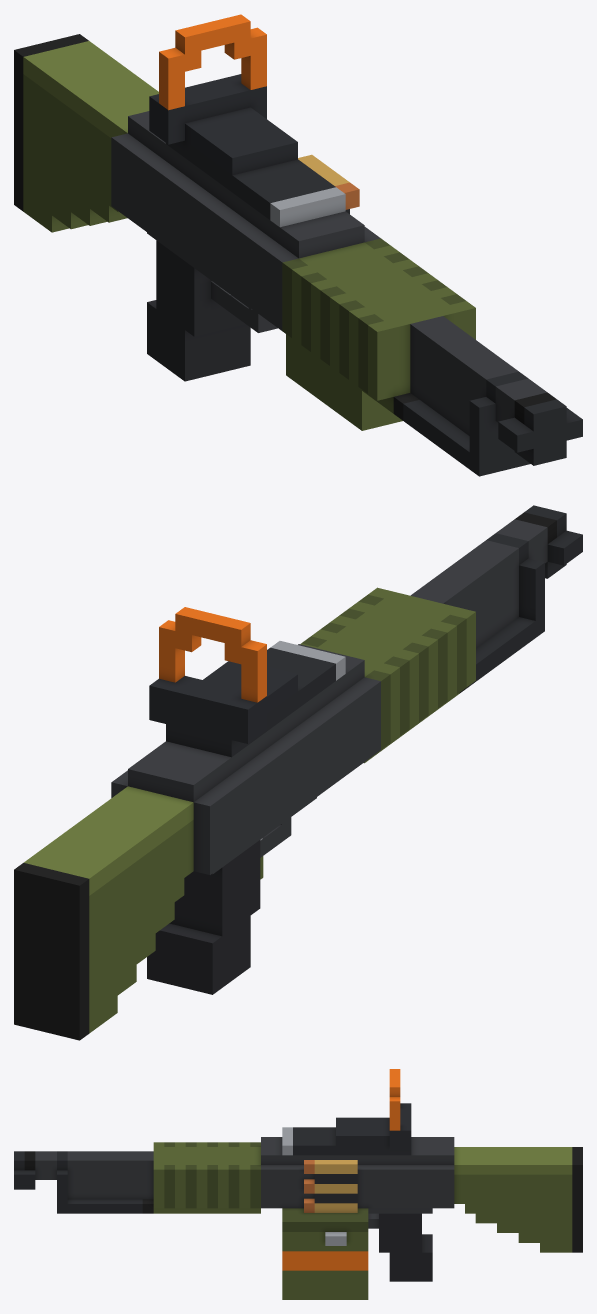
Rendered from lmg.glb.
3 views of the same model, one above another, from view 1: azimuth 30°, elevation 25°; view 2: azimuth 150°, elevation 25°; view 3: azimuth 270°, elevation 25° (orthographic). The views are drawn at different scales.
Parts seen in each view (by area): view 1: lmg_body; view 2: lmg_body; view 3: lmg_body.
Boxes of the visible parts, <box> form: lmg_body: <box>14,14,582,476</box>; lmg_body: <box>14,505,582,1040</box>; lmg_body: <box>14,1069,582,1299</box>.
Size of the model in its own units: 0.3906 by 0.7812 by 2.07.
1 material, 1 textured.
